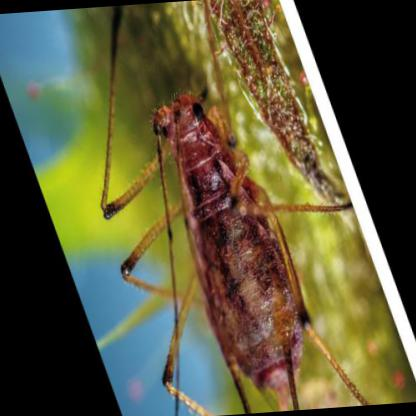uroleucon compositae: (155, 94, 305, 406)
